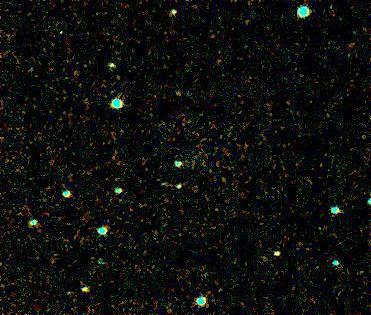star: (51, 19, 81, 49)
